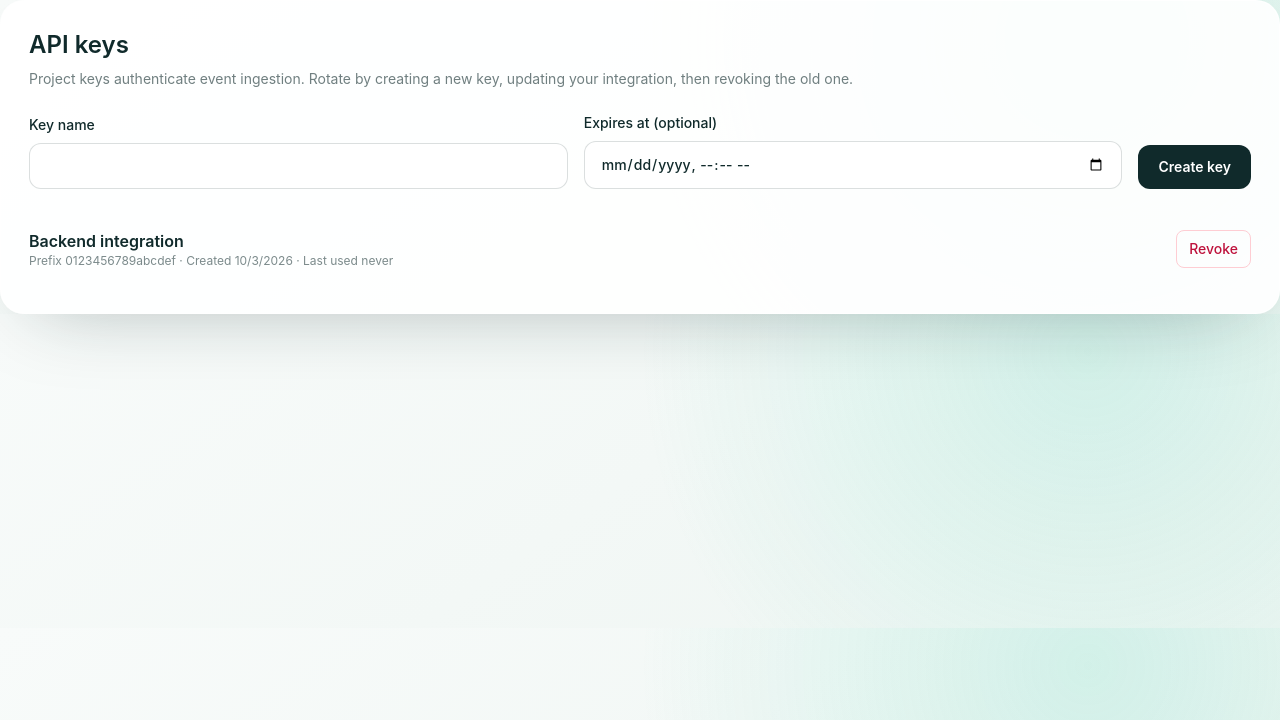
Test: ApiKeysSection › confirms revocation and updates the key state
Click the button "Revoke": {"x": 1214, "y": 249} x1=1176 y1=230 x2=1251 y2=268
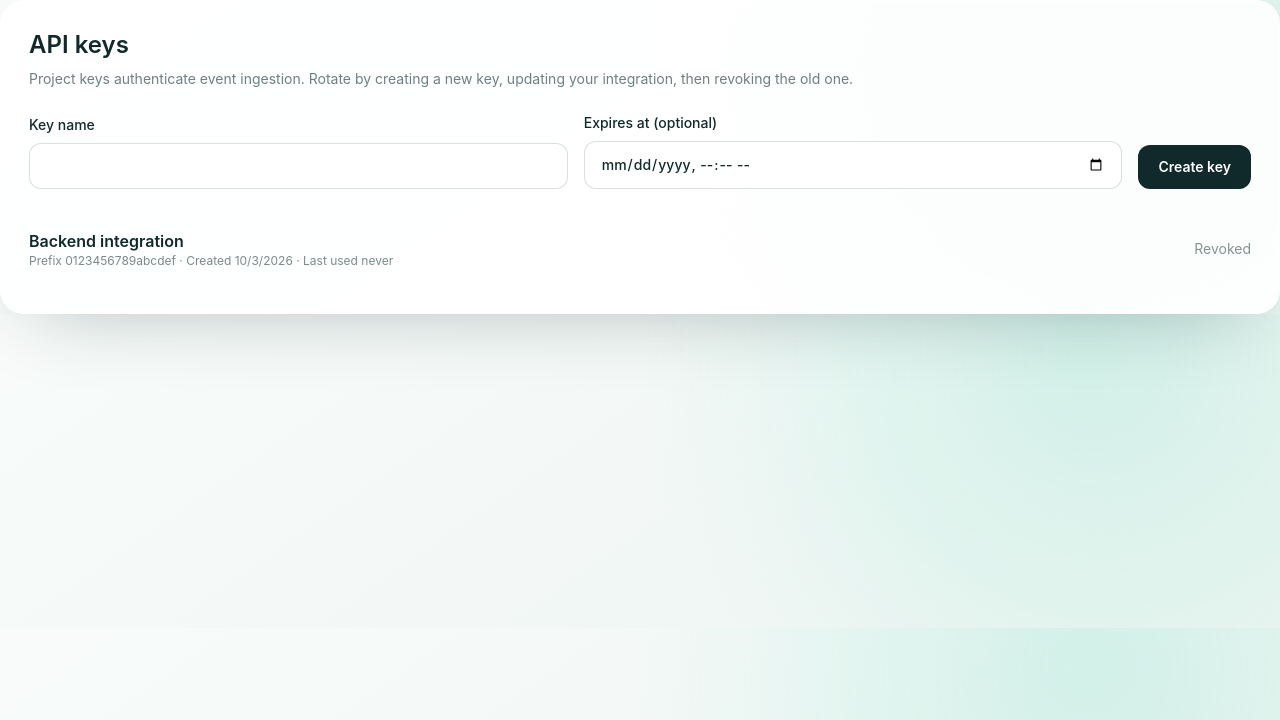
Now the text "Revoked" is shown, box x1=1194 y1=239 x2=1251 y2=259
